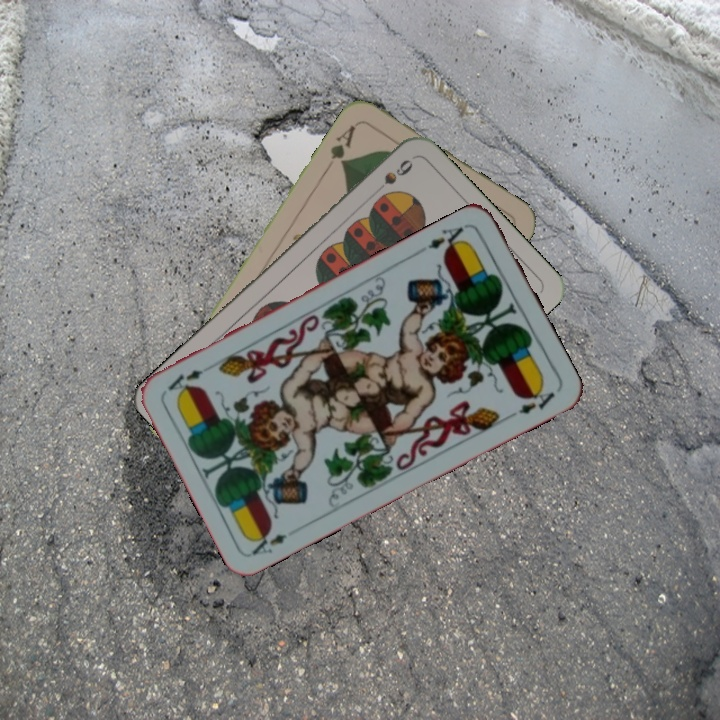EA: (423, 220, 471, 257), (246, 526, 290, 558)
GA: (326, 121, 358, 169)
S9: (368, 155, 416, 198)
